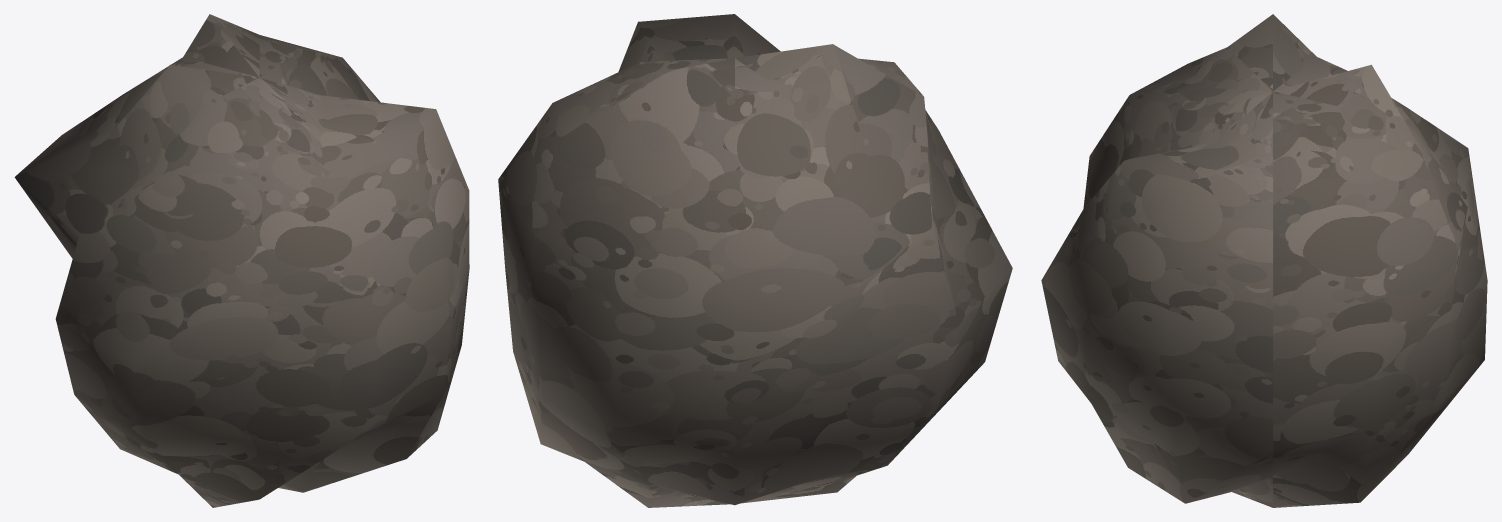
File: rock_a.obj
The picture shows the model from 3 angles, left to right: view 1: azimuth 30°, elevation 25°; view 2: azimuth 150°, elevation 25°; view 3: azimuth 270°, elevation 25°; orthographic projection. The views are drawn at different scales.
Size of the model in its own units: 2.02 by 2.17 by 2.02.
Materials: 1 (1 with a texture image).
